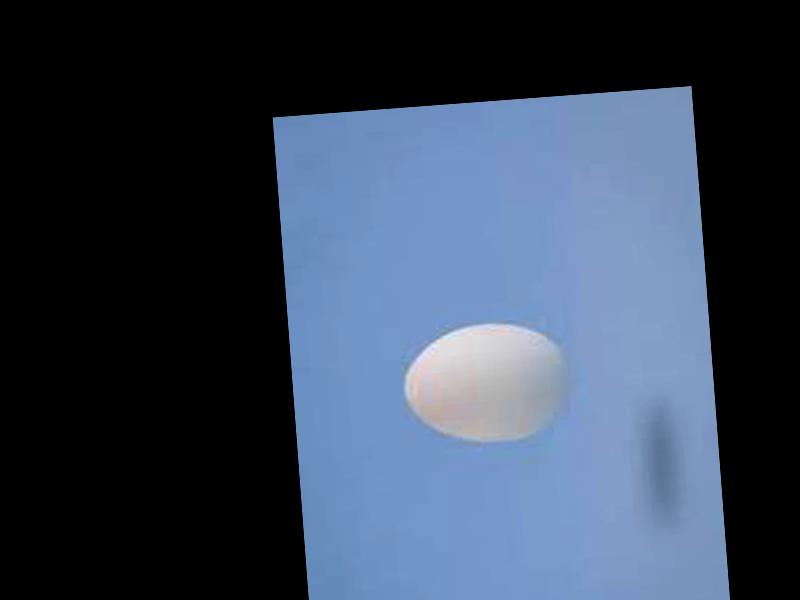Eggs: (399, 317, 575, 450)
